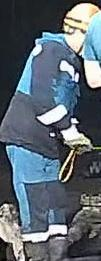gloves: (59, 117, 93, 155)
helmet: (61, 2, 99, 34)
vest: (0, 33, 100, 159)
